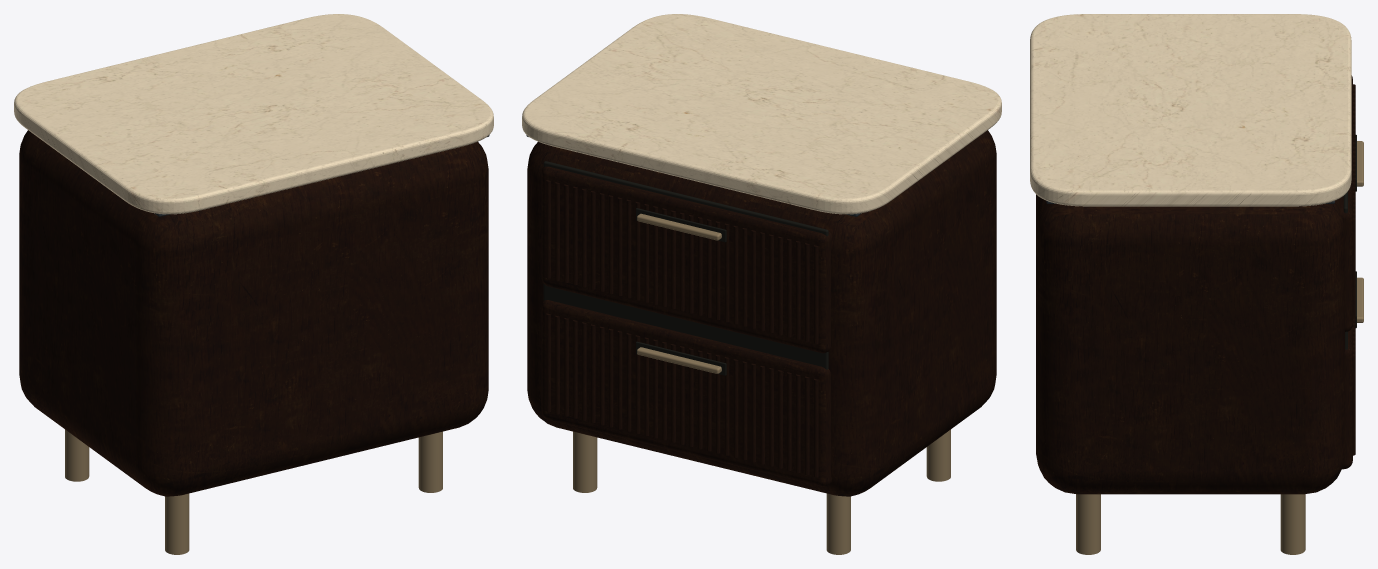
The model's file is premium-walnut-bedside.glb.
The picture shows the model from 3 angles, left to right: view 1: azimuth 30°, elevation 25°; view 2: azimuth 150°, elevation 25°; view 3: azimuth 270°, elevation 25°; orthographic projection. The views are drawn at different scales.
Visible parts, largest first — view 1: rounded_walnut_carcass, cream_stone_top, bronze_inset_pull; view 2: rounded_walnut_carcass, cream_stone_top, recessed_drawer_shadow, bronze_inset_pull; view 3: rounded_walnut_carcass, cream_stone_top, bronze_inset_pull.
Part boxes in pixels (left/top/right/bottom): rounded_walnut_carcass: left=19, top=130, right=488, bottom=496; cream_stone_top: left=14, top=14, right=493, bottom=214; bronze_inset_pull: left=65, top=429, right=442, bottom=554; rounded_walnut_carcass: left=527, top=130, right=996, bottom=496; cream_stone_top: left=522, top=14, right=1001, bottom=214; recessed_drawer_shadow: left=543, top=161, right=828, bottom=375; bronze_inset_pull: left=573, top=213, right=950, bottom=554; rounded_walnut_carcass: left=1036, top=75, right=1355, bottom=494; cream_stone_top: left=1030, top=14, right=1351, bottom=206; bronze_inset_pull: left=1076, top=141, right=1363, bottom=554.
Size of the model in its own units: 0.58 by 0.58 by 0.457.
6 materials, 2 textured.
